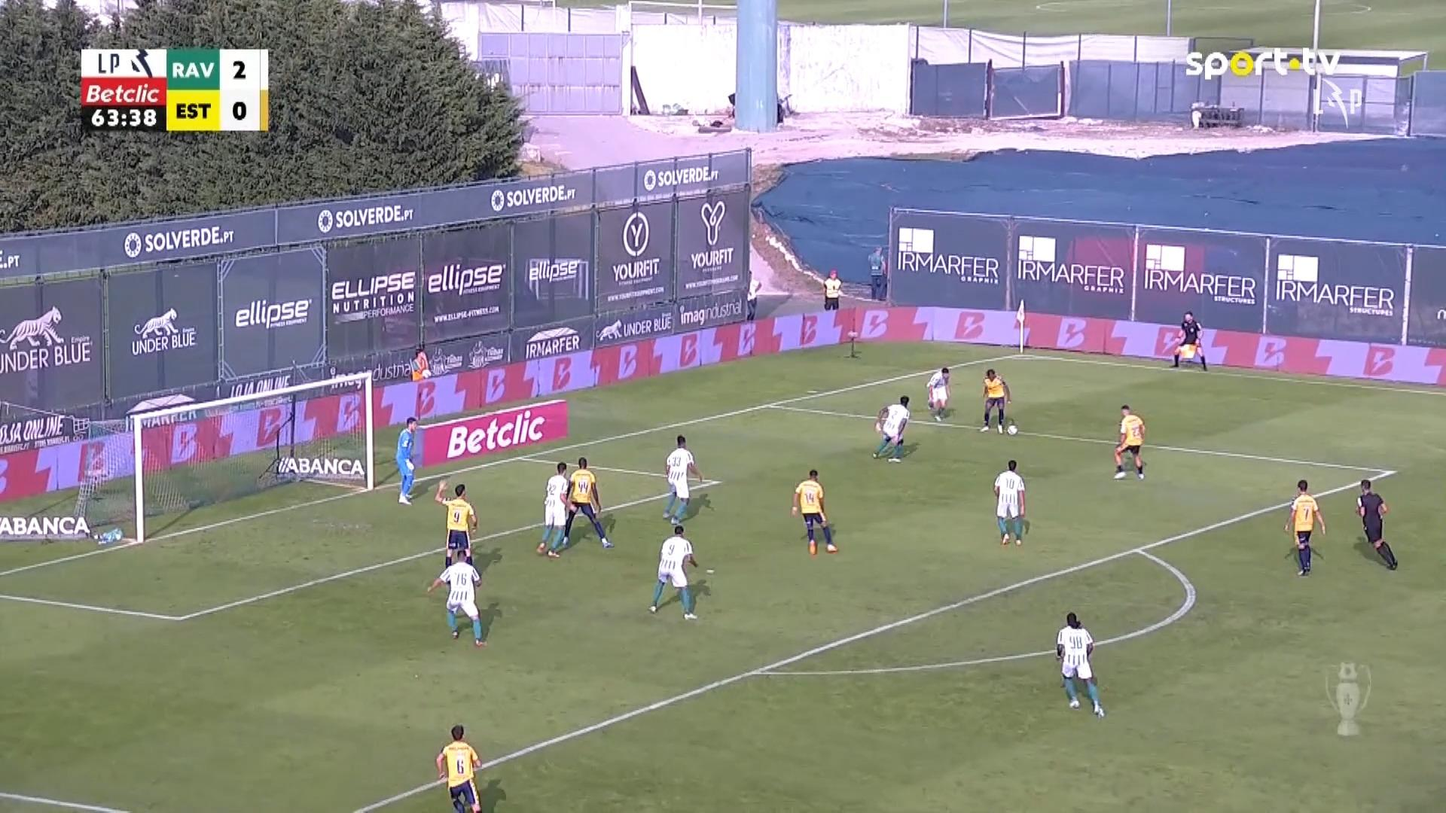ball: (1005, 425, 1017, 435)
goalkeeper: (395, 416, 418, 504)
player: (426, 547, 487, 646), (1054, 611, 1105, 718), (560, 456, 614, 548), (647, 524, 698, 620), (1283, 479, 1326, 576), (435, 723, 482, 811), (791, 468, 837, 555), (434, 479, 477, 569), (661, 434, 703, 525), (535, 461, 571, 556), (992, 459, 1026, 546), (871, 394, 910, 462), (1112, 403, 1146, 480), (979, 367, 1011, 434), (926, 366, 950, 421)
referee: (1354, 477, 1398, 570), (1170, 310, 1207, 370)
